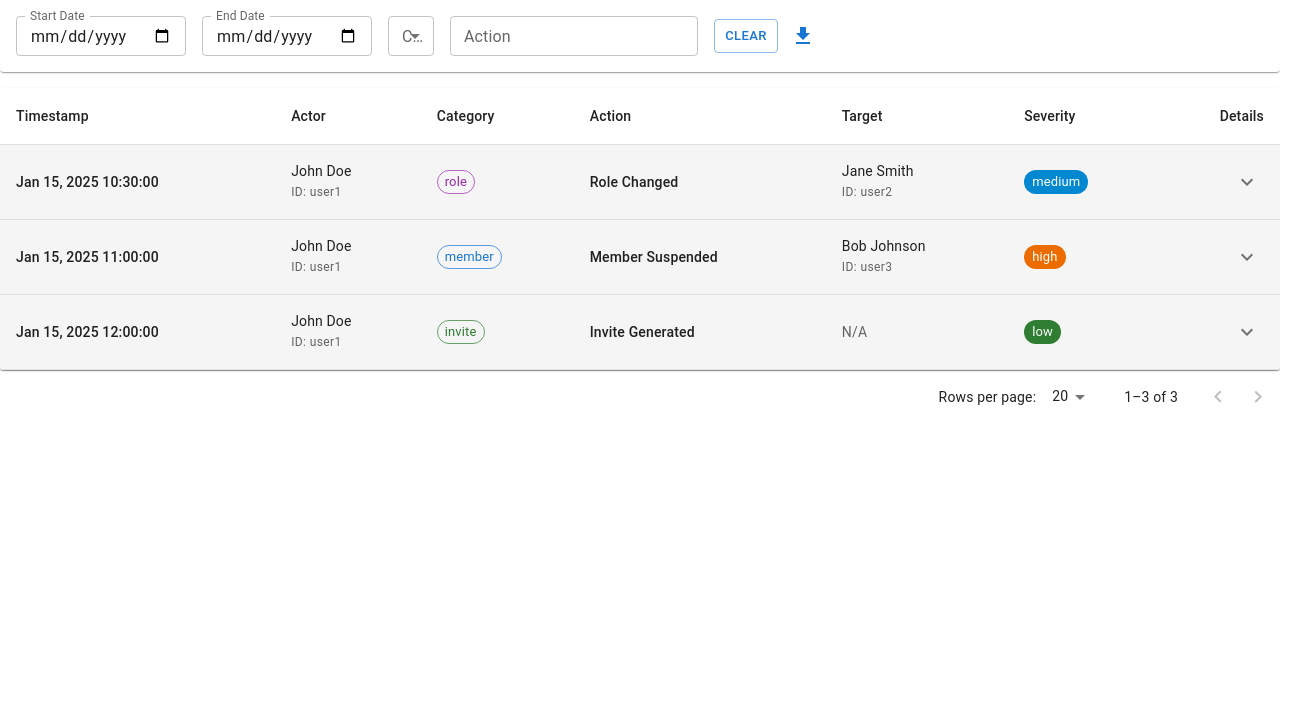
AuditTrail Component › Audit Log Details › should expand and show details when row is clicked
Expected: the text "Role Changed" is shown, [590,174,678,190]
Click the text "Role Changed".
click(640, 182)  # box [0,144,1280,219]
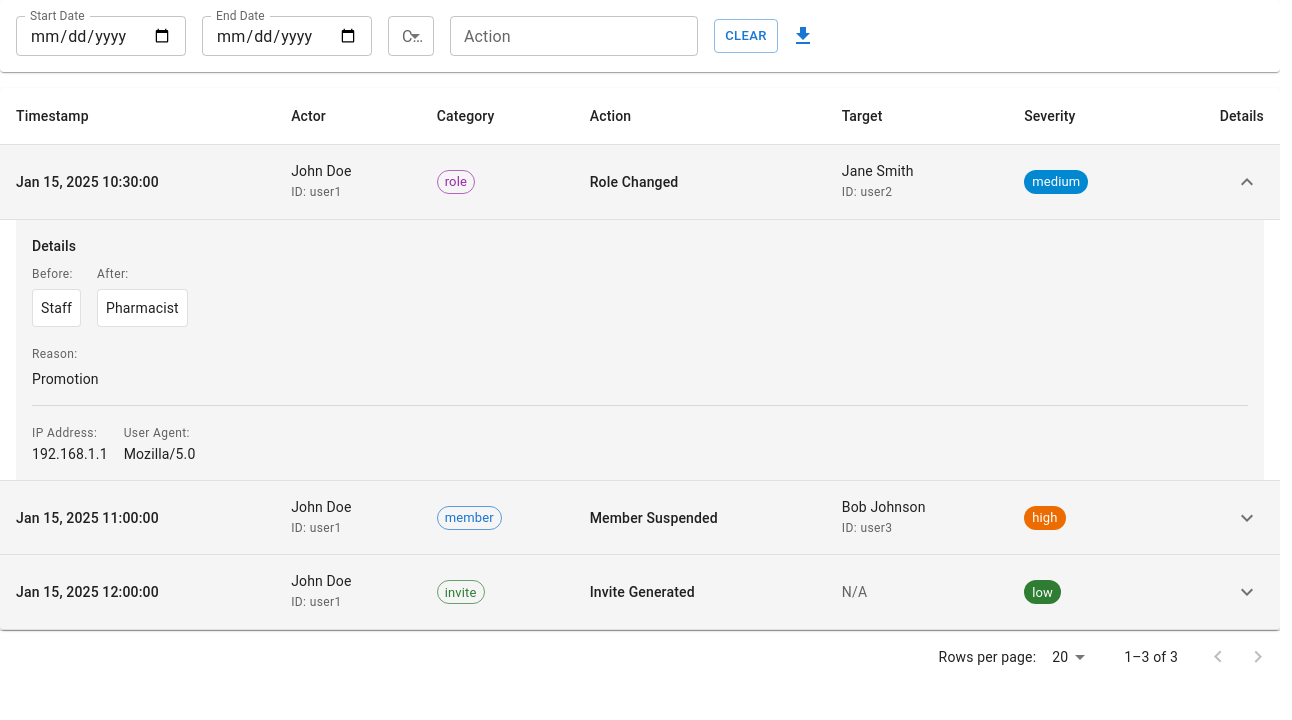
Expected: the text "Before:" is shown, [32,267,73,281]
Expected: the text "After:" is shown, [97,267,129,281]
Expected: the text "Reason:" is shown, [32,347,78,361]
